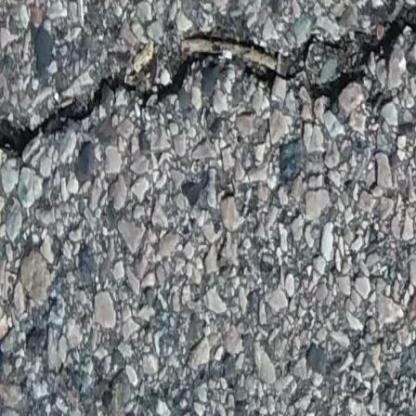Cracks: (3, 0, 416, 180)
